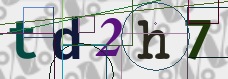2: (94, 16, 123, 56)
7: (183, 18, 213, 61)
d: (51, 15, 82, 62)
h: (135, 17, 172, 61)
t: (7, 17, 40, 61)
